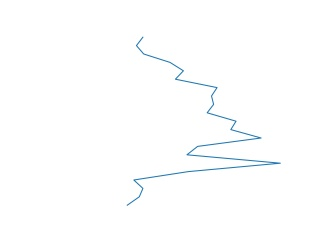floodSwamp: (123, 37, 283, 209)
